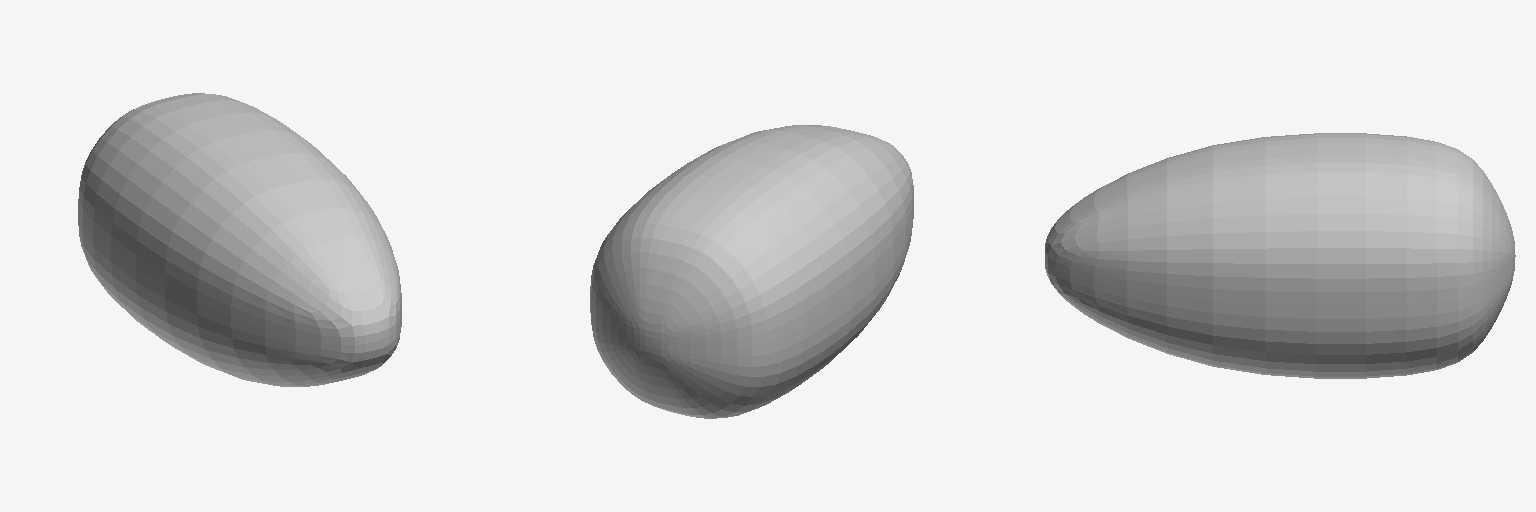
Rendered from body.obj.
3 renders of one model, left to right at view 1: azimuth 30°, elevation 25°; view 2: azimuth 150°, elevation 25°; view 3: azimuth 270°, elevation 25°, orthographic.
Parts seen in each view (by area): view 1: Cube; view 2: Cube; view 3: Cube.
Part boxes in pixels (x1,y1,x2,y2): Cube: (78,93,401,386); Cube: (590,125,913,418); Cube: (1045,133,1515,378).
Size of the model in its own units: 1.96 by 1.96 by 3.92.